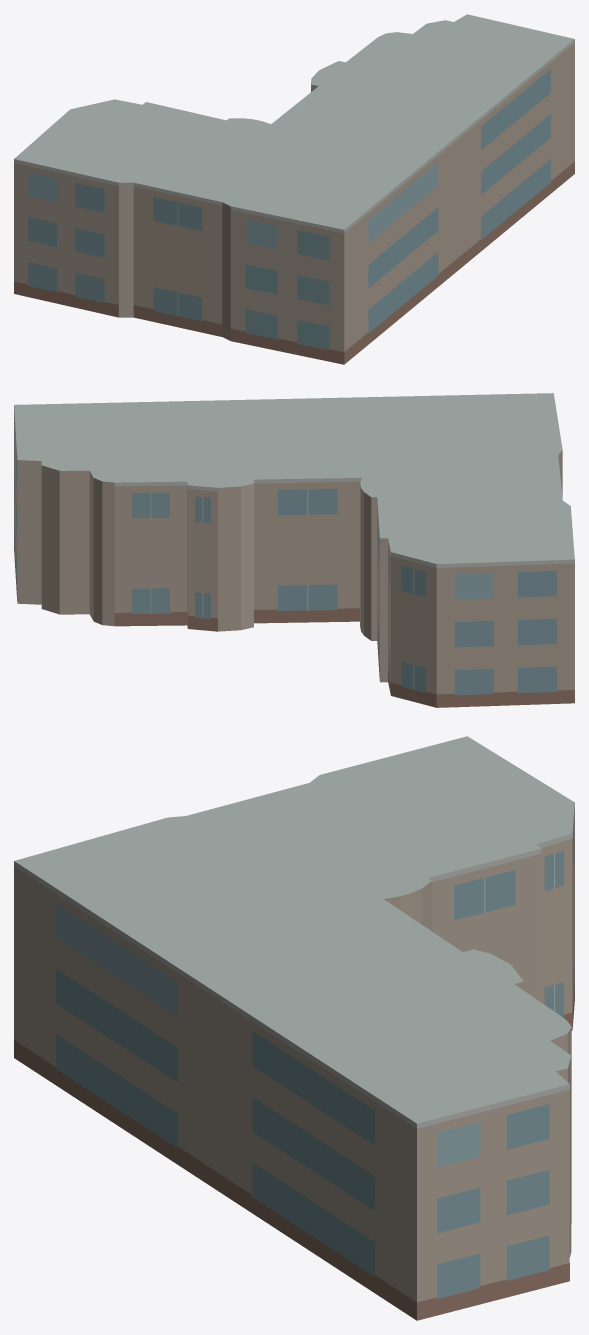
Rendered from survey-upis-33002530.glb.
3 renders of one model, top to bottom at view 1: azimuth 30°, elevation 25°; view 2: azimuth 150°, elevation 25°; view 3: azimuth 270°, elevation 25°, orthographic. The views are drawn at different scales.
Parts seen in each view (by area): view 1: survey-upis-33002530.tmp; view 2: survey-upis-33002530.tmp; view 3: survey-upis-33002530.tmp.
Part boxes in pixels (box(x1,y1,x2,y2)): survey-upis-33002530.tmp: box(14, 14, 574, 364); survey-upis-33002530.tmp: box(14, 393, 574, 707); survey-upis-33002530.tmp: box(14, 736, 574, 1320).
Bounding box in the file's own units: 38.6 × 9.15 × 23.61.
